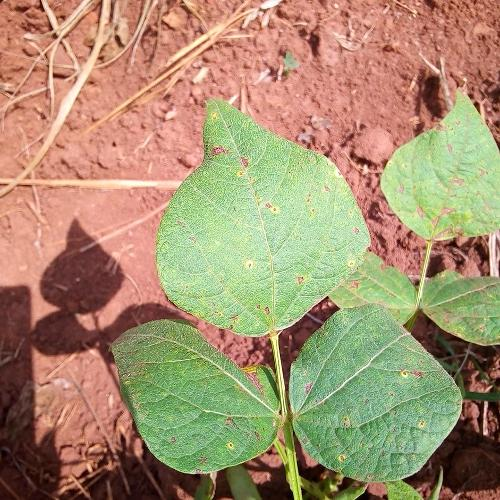hawar: (218, 406, 258, 455), (207, 146, 256, 168), (301, 365, 320, 402), (240, 369, 264, 391), (349, 224, 364, 248), (294, 274, 310, 288)
mozaik: (185, 153, 319, 311), (307, 350, 421, 476), (163, 372, 246, 467)
